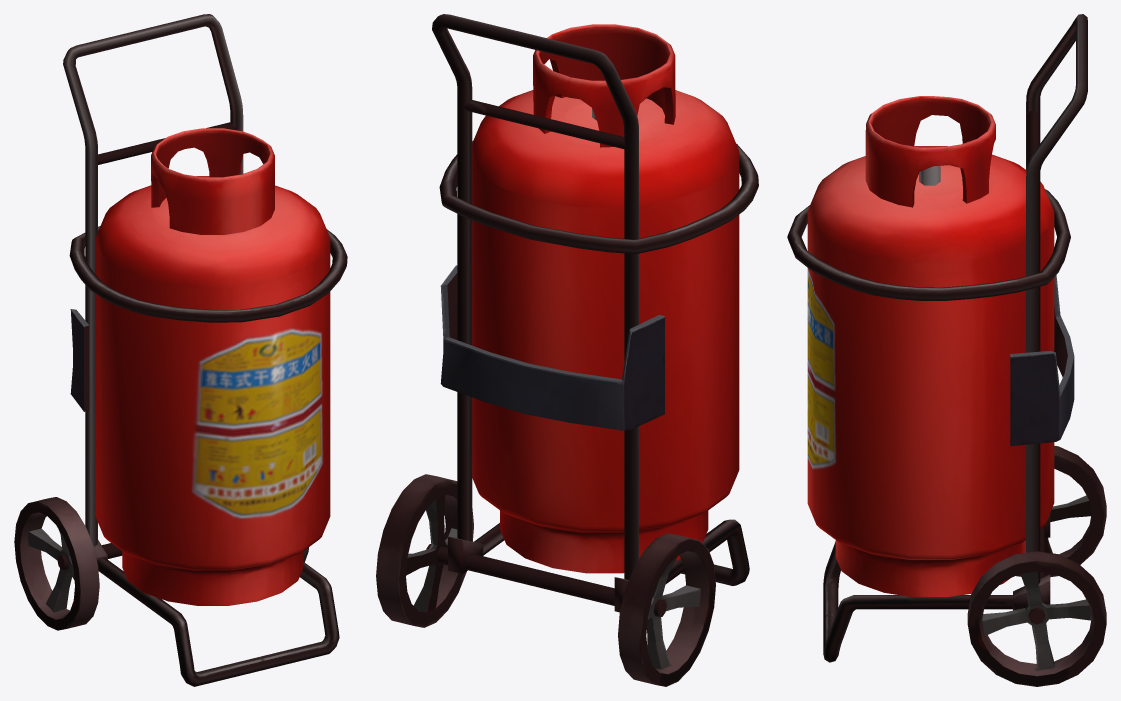
The model's file is yidongmiehuoqi.fbx.
3 views of the same model, side by side, from view 1: azimuth 30°, elevation 25°; view 2: azimuth 150°, elevation 25°; view 3: azimuth 270°, elevation 25° (orthographic). The views are drawn at different scales.
Parts seen in each view (by area): view 1: yidongmiehuoqi; view 2: yidongmiehuoqi; view 3: yidongmiehuoqi.
Part boxes in pixels (x1,y1,x2,y2): yidongmiehuoqi: (14, 14, 347, 686); yidongmiehuoqi: (376, 14, 758, 686); yidongmiehuoqi: (787, 14, 1106, 686).
Bounding box in the file's own units: 24.37 × 54.45 × 27.2.
